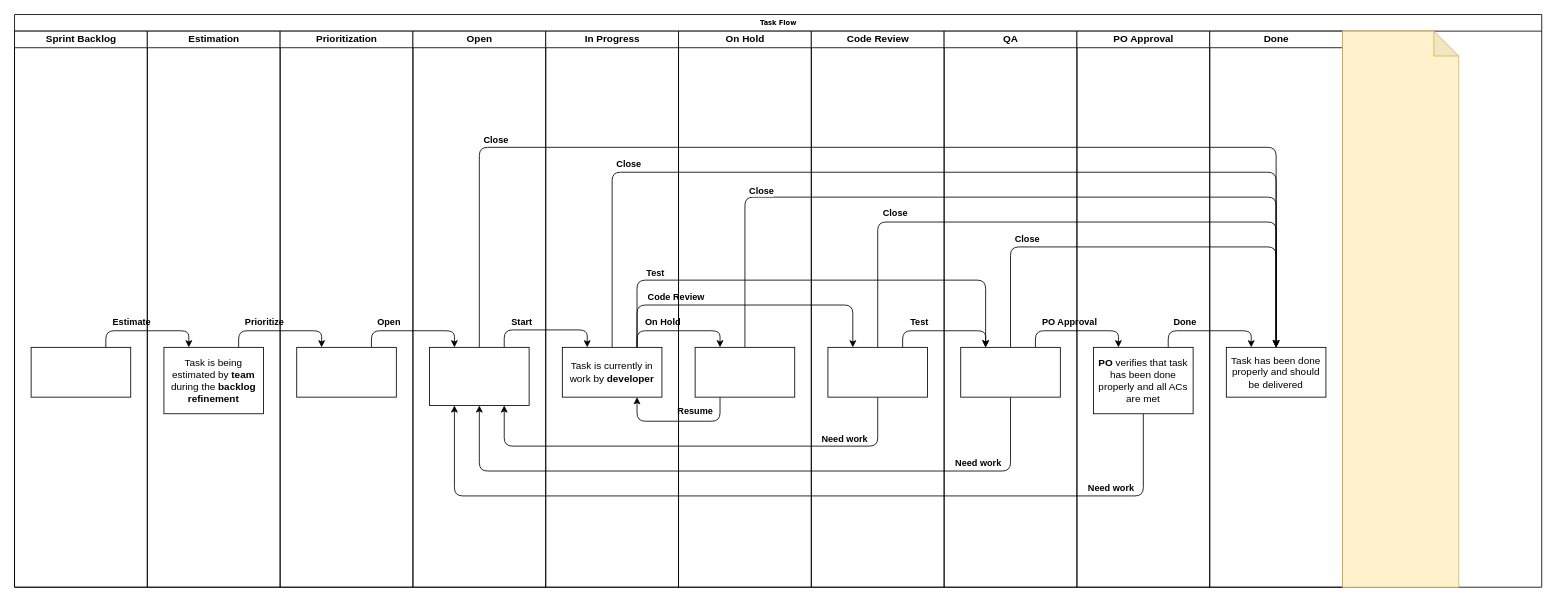
The diagram is 1556 pixels wide and 602 high, and some of its shapes have lost their labels. Each missing label, with the centre of its shape:
Merge request need to be reviewed by developer: pixel 877 372
QA makes tests: pixel 1010 372
Task has been paused by developer: pixel 744 372
Task is being added by PO before sprint refinement: pixel 80 372
Task is being prioritized by PO until sprint start .: pixel 346 372
Task is ready to be taken by developer: pixel 479 376
TODO: Complete flow with deployment and stage/prod testing: pixel 1400 308
